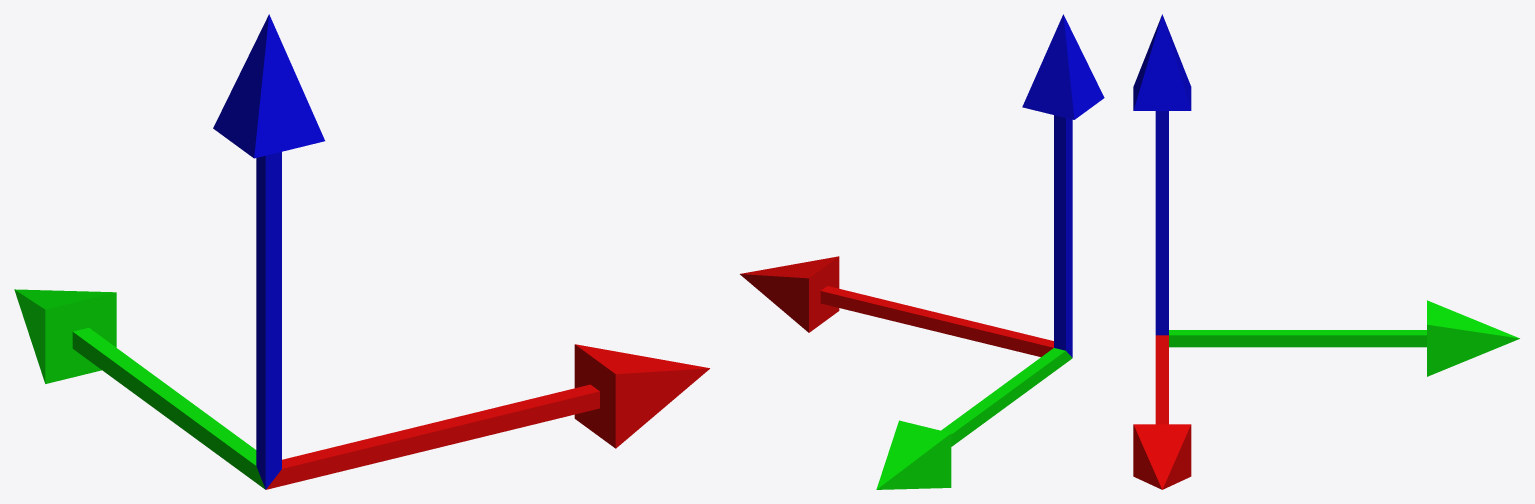
Rendered from XYZaxis.dae.
3 views of the same model, side by side, from view 1: azimuth 30°, elevation 25°; view 2: azimuth 150°, elevation 25°; view 3: azimuth 270°, elevation 25° (orthographic). The views are drawn at different scales.
Parts seen in each view (by area): view 1: Cube; view 2: Cube; view 3: Cube.
Part boxes in pixels (box(x1,y1,x2,y2)): Cube: box(14, 14, 709, 489); Cube: box(740, 14, 1104, 489); Cube: box(1133, 14, 1519, 489).
Bounding box in the file's own units: 2.93 × 2.93 × 2.93.
